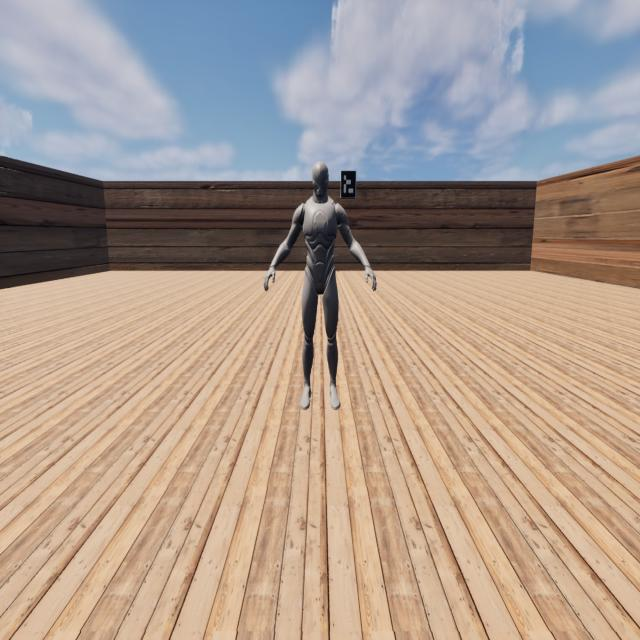aruco: (341, 170, 356, 198)
hip: (304, 266, 336, 278)
